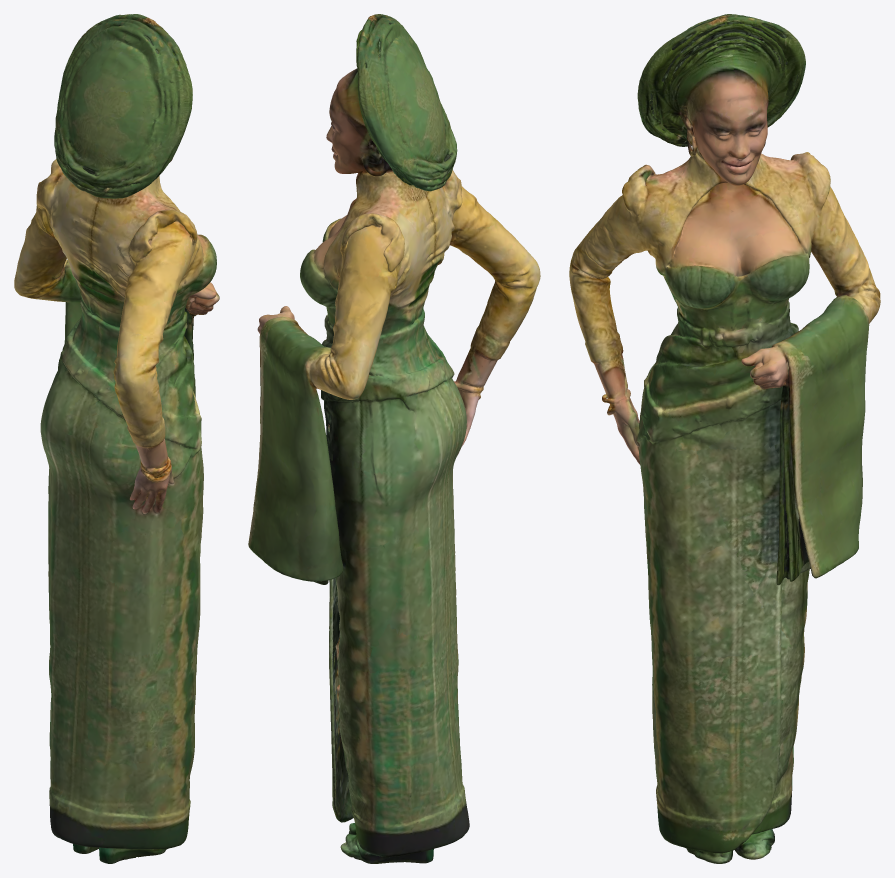
Rendered from aso-oke-wedding-dress.glb.
The picture shows the model from 3 angles, left to right: view 1: azimuth 30°, elevation 25°; view 2: azimuth 150°, elevation 25°; view 3: azimuth 270°, elevation 25°; orthographic projection.
Parts seen in each view (by area): view 1: Object_4; view 2: Object_4; view 3: Object_4.
Part boxes in pixels (<box>): Object_4: <box>14,14,219,863</box>; Object_4: <box>248,14,540,863</box>; Object_4: <box>569,14,880,863</box>.
Bounding box in the file's own units: 0.4526 × 1.9 × 0.6422.
1 material, 1 textured.
